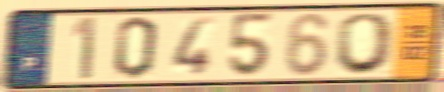0: (110, 14, 161, 82)
1: (70, 14, 98, 83)
4: (169, 15, 216, 79)
5: (224, 11, 277, 82)
6: (281, 10, 332, 80)
O: (331, 11, 398, 77)
